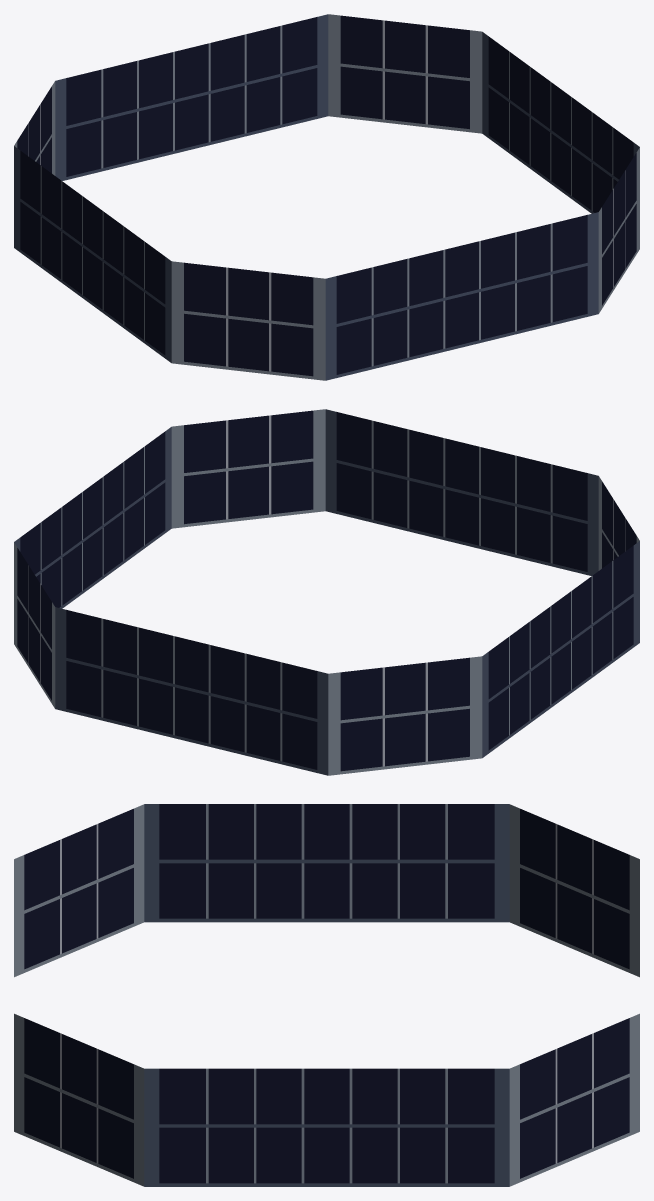
The model's file is TB_CITY_Skysc_R_MidBodyB_Blue.FBX.
3 renders of one model, top to bottom at view 1: azimuth 30°, elevation 25°; view 2: azimuth 150°, elevation 25°; view 3: azimuth 270°, elevation 25°, orthographic. The views are drawn at different scales.
Parts seen in each view (by area): view 1: TB_CITY_Skysc_R_MidBodyB_Blue; view 2: TB_CITY_Skysc_R_MidBodyB_Blue; view 3: TB_CITY_Skysc_R_MidBodyB_Blue.
Part boxes in pixels (x1,y1,x2,y2): TB_CITY_Skysc_R_MidBodyB_Blue: [14, 14, 639, 380]; TB_CITY_Skysc_R_MidBodyB_Blue: [14, 409, 639, 775]; TB_CITY_Skysc_R_MidBodyB_Blue: [14, 804, 639, 1186].
Size of the model in its own units: 17.93 by 3.74 by 17.93.
